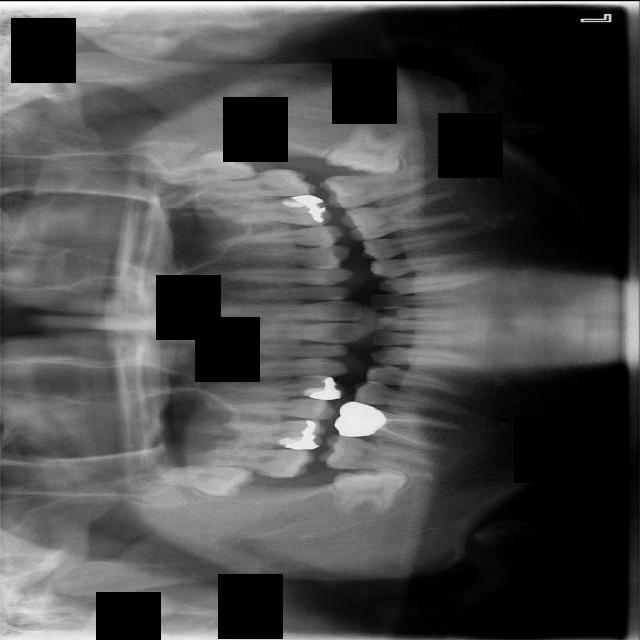3M ESPE Implant: (164, 464, 256, 497)
52: (331, 395, 392, 445), (318, 164, 375, 217), (276, 189, 335, 234), (289, 369, 348, 402), (271, 416, 326, 450), (306, 284, 352, 300), (251, 198, 284, 203), (376, 254, 394, 260), (323, 343, 337, 347)
73: (371, 408, 462, 455), (568, 36, 577, 46)
BioHorizons Implant: (194, 166, 318, 201)
BioLife Implant: (149, 145, 258, 189)
Biomet 3i Implant: (325, 113, 411, 181)
Blue Sky Bio Implant: (318, 162, 440, 213)
Caries: (199, 447, 316, 478)
Implant: (317, 432, 435, 475)
Keystone Dental Implant: (331, 465, 410, 517)
